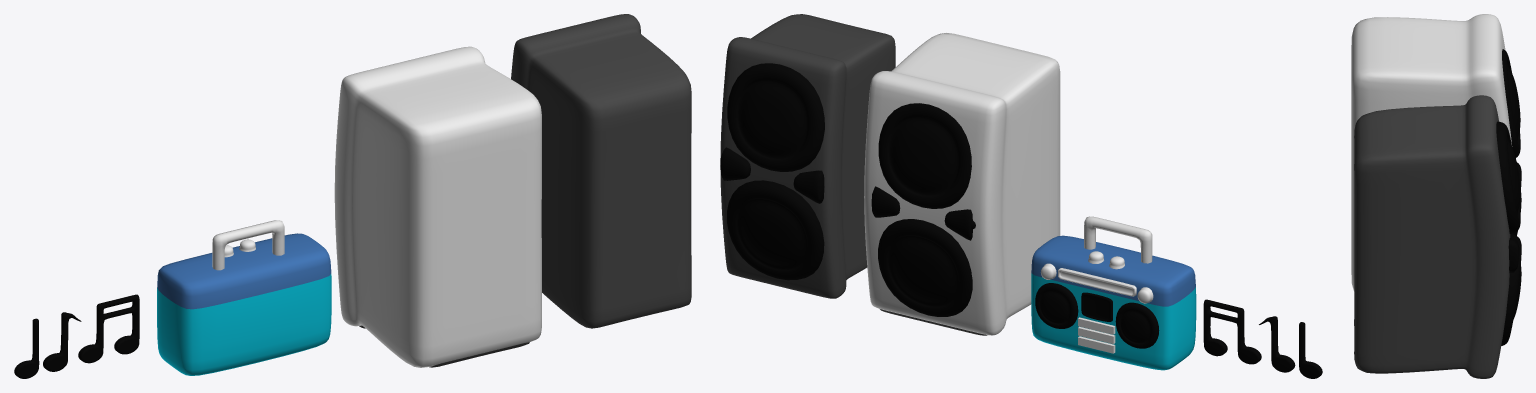
File: boombox_sepp.fbx
3 views of the same model, side by side, from view 1: azimuth 30°, elevation 25°; view 2: azimuth 150°, elevation 25°; view 3: azimuth 270°, elevation 25° (orthographic). The views are drawn at different scales.
Parts seen in each view (by area): view 1: Cube, Cube.008, Cube.570, Cube.583, Cylinder.022, Cube.576, Cylinder.020, Cylinder.019; view 2: Cube, Cube.008, Cube.010, Cube.002, Cube.011, Cube.001, Cube.570, Cube.583, Cylinder.022, Cube.572, Cube.571, Cube.576 (+8 smaller); view 3: Cube.008, Cube, Cube.010, Cube.002, Cube.011, Cube.007.
Boxes of the visible parts, x1=… form: Cube: x1=334, y1=46, x2=541, y2=367; Cube.008: x1=511, y1=14, x2=691, y2=328; Cube.570: x1=157, y1=274, x2=331, y2=375; Cube.583: x1=157, y1=233, x2=331, y2=309; Cylinder.022: x1=78, y1=294, x2=139, y2=363; Cube.576: x1=212, y1=220, x2=284, y2=270; Cylinder.020: x1=43, y1=312, x2=81, y2=371; Cylinder.019: x1=14, y1=318, x2=39, y2=378; Cube: x1=864, y1=33, x2=1060, y2=335; Cube.008: x1=720, y1=14, x2=895, y2=298; Cube.010: x1=727, y1=63, x2=824, y2=171; Cube.002: x1=878, y1=103, x2=971, y2=208; Cube.011: x1=727, y1=180, x2=824, y2=280; Cube.001: x1=878, y1=219, x2=972, y2=316; Cube.570: x1=1031, y1=273, x2=1196, y2=370; Cube.583: x1=1031, y1=235, x2=1195, y2=306; Cylinder.022: x1=1203, y1=299, x2=1261, y2=364; Cube.572: x1=1115, y1=302, x2=1159, y2=348; Cube.571: x1=1035, y1=283, x2=1078, y2=328; Cube.576: x1=1084, y1=216, x2=1152, y2=263; Cube.008: x1=1354, y1=95, x2=1510, y2=378; Cube: x1=1351, y1=14, x2=1512, y2=291; Cube.010: x1=1496, y1=121, x2=1520, y2=233; Cube.002: x1=1502, y1=49, x2=1520, y2=157; Cube.011: x1=1501, y1=234, x2=1521, y2=345; Cube.007: x1=1508, y1=238, x2=1519, y2=273.
Bounding box in the file's own units: 527 × 202 × 132.
